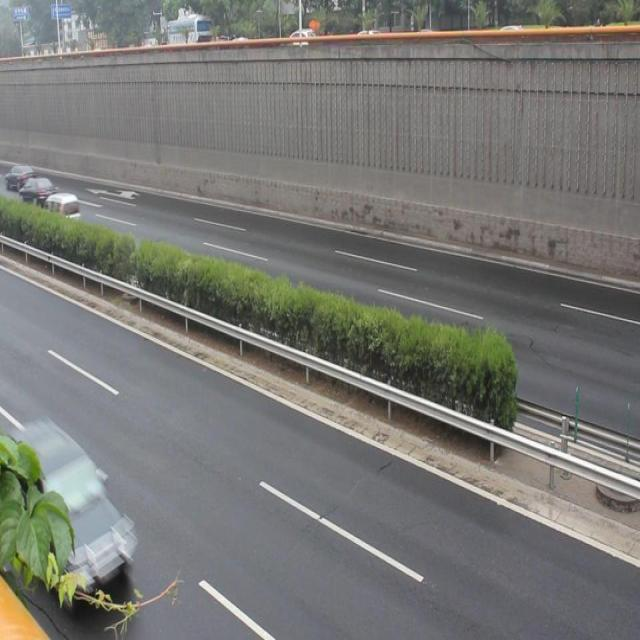car: (12, 414, 141, 600)
